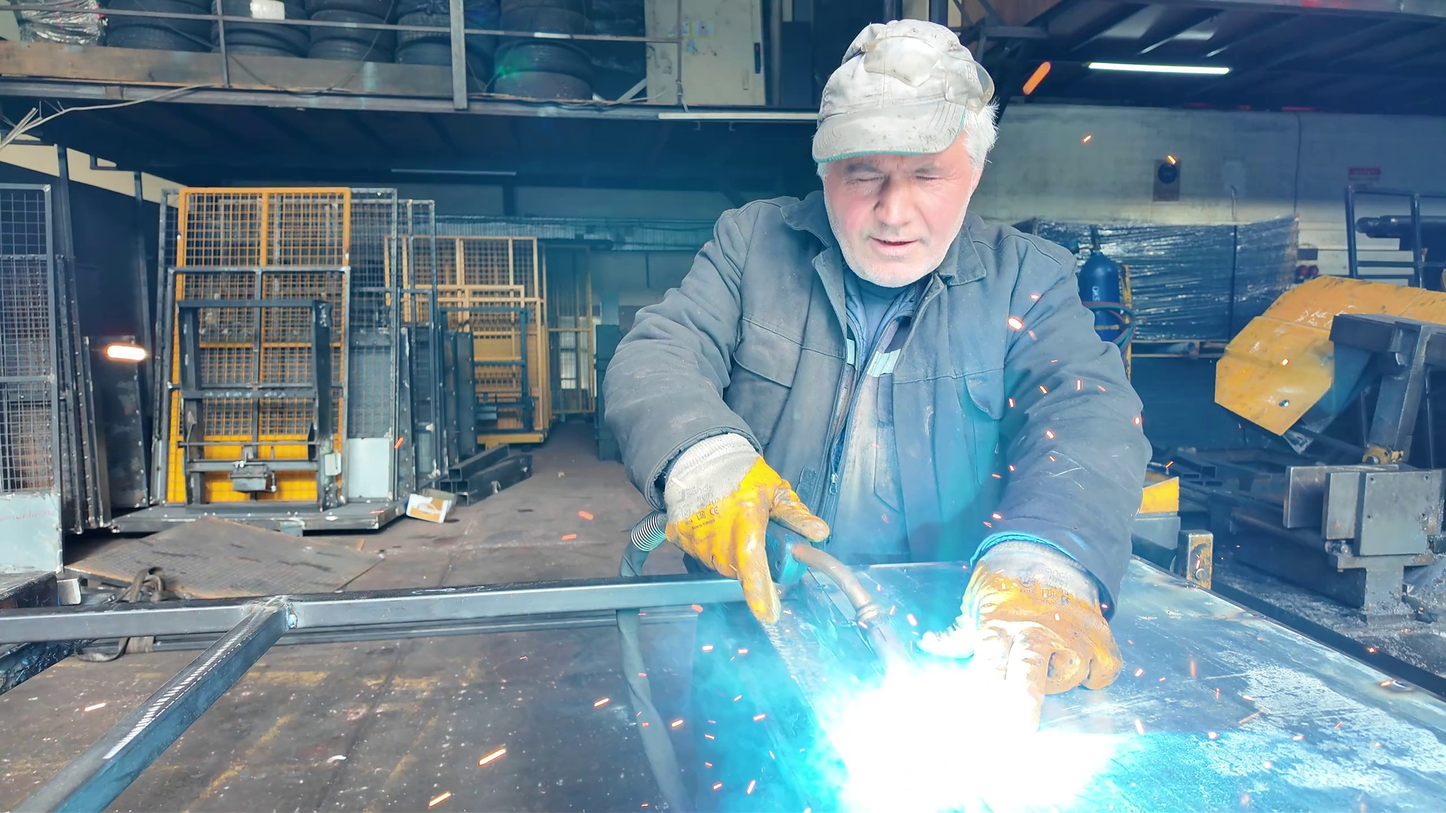person: (598, 18, 1155, 698)
